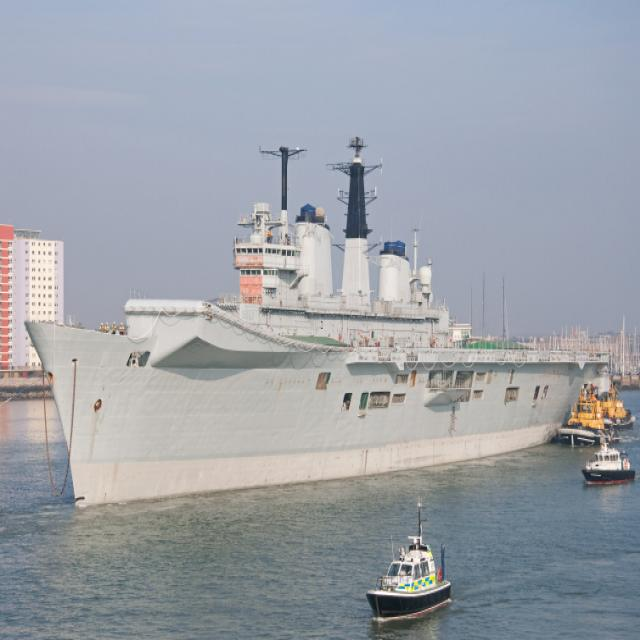Portanaves: (25, 133, 619, 518)
